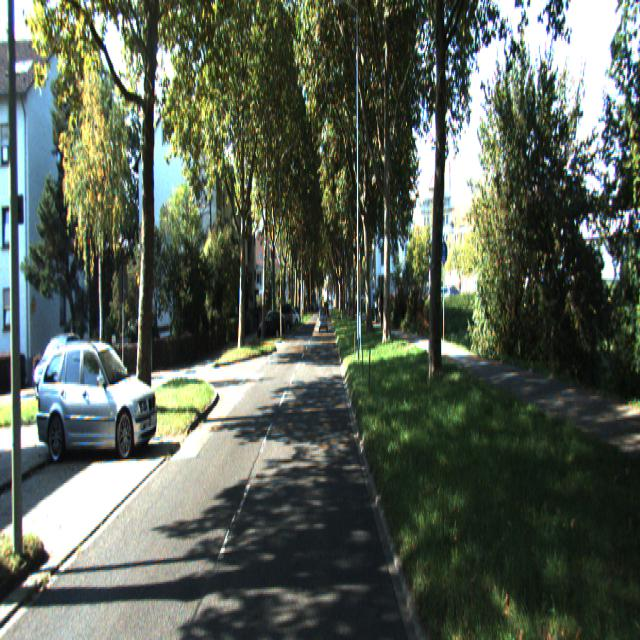Car: (31, 334, 162, 456)
